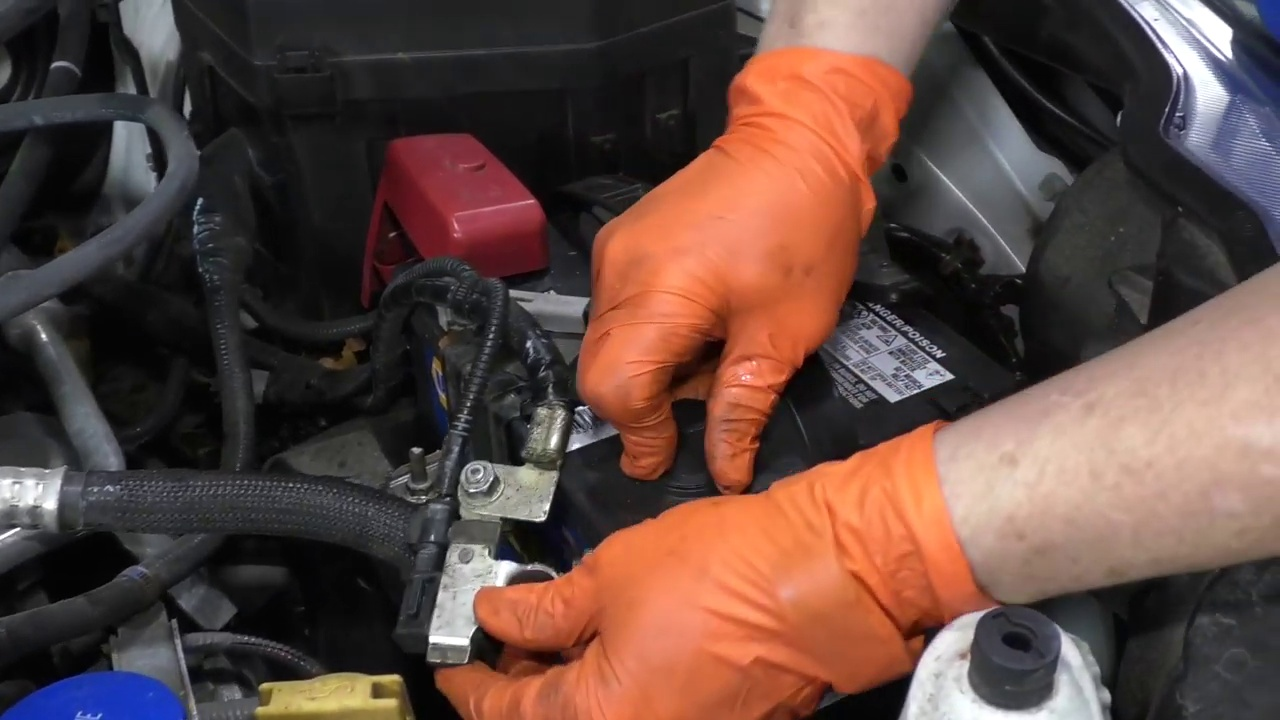battery: (375, 160, 1041, 544)
pos_connected: (325, 97, 573, 291)
